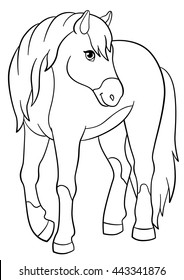animal: (7, 8, 181, 250)
